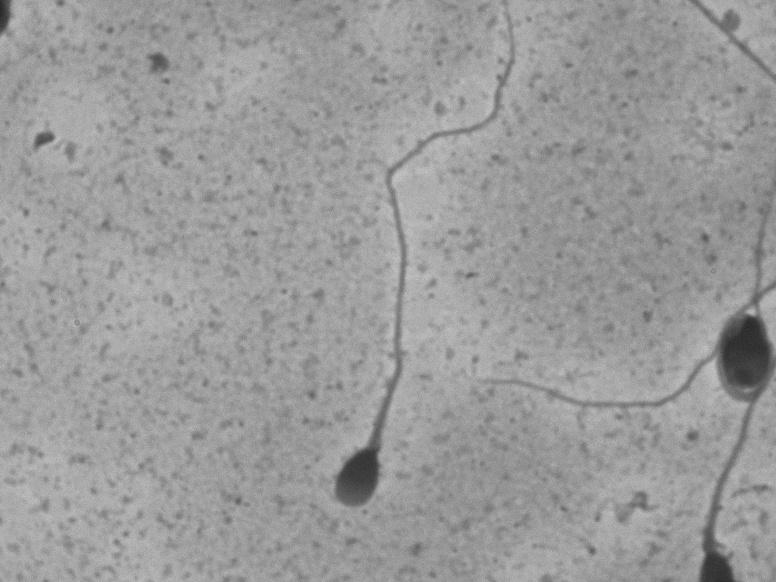Normal: (279, 15, 524, 555)
